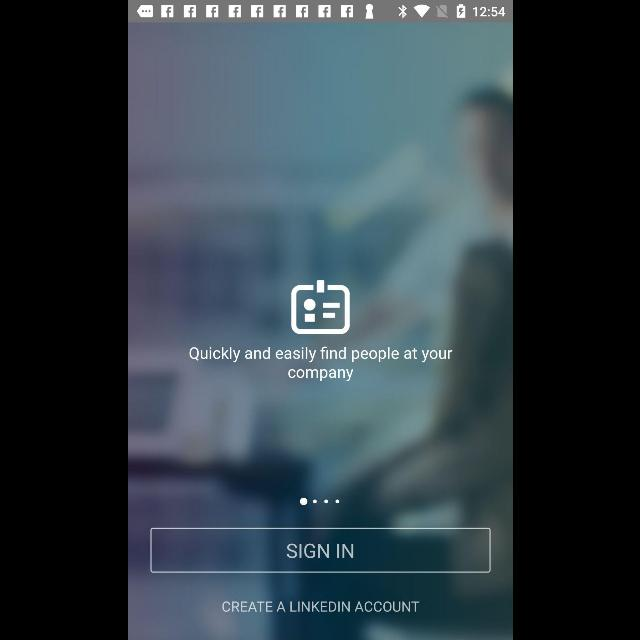backgroundimage: (128, 22, 512, 640)
image: (290, 279, 350, 335)
pageindicator: (299, 497, 339, 505)
text: (188, 346, 452, 382), (222, 602, 418, 612)
textbutton: (150, 528, 490, 572)
uppertaskbar: (128, 1, 512, 23)
